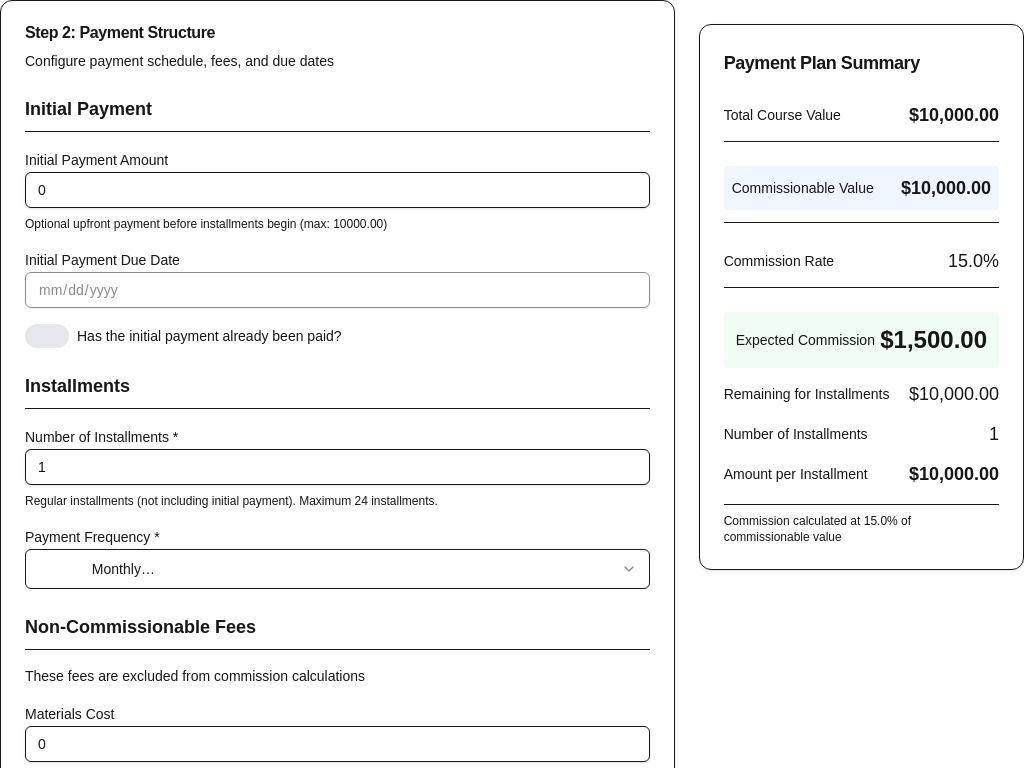
Test: PaymentPlanWizardStep2 › Form Validation › enables initial payment due date when amount is greater than 0
Replace the text in the number field labelled "Initial Payment Amount" with "2000" at (337, 190), box [25,172,650,208]
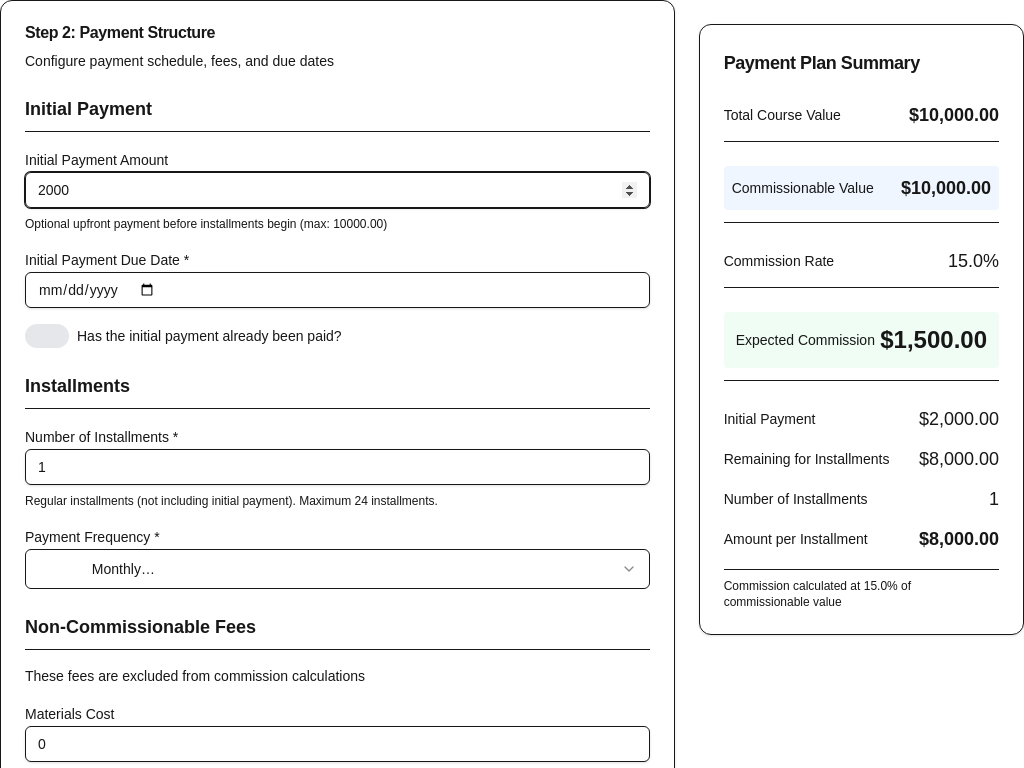
Now the date field labelled "Initial Payment Due Date *" is enabled, box [25,272,650,308]
